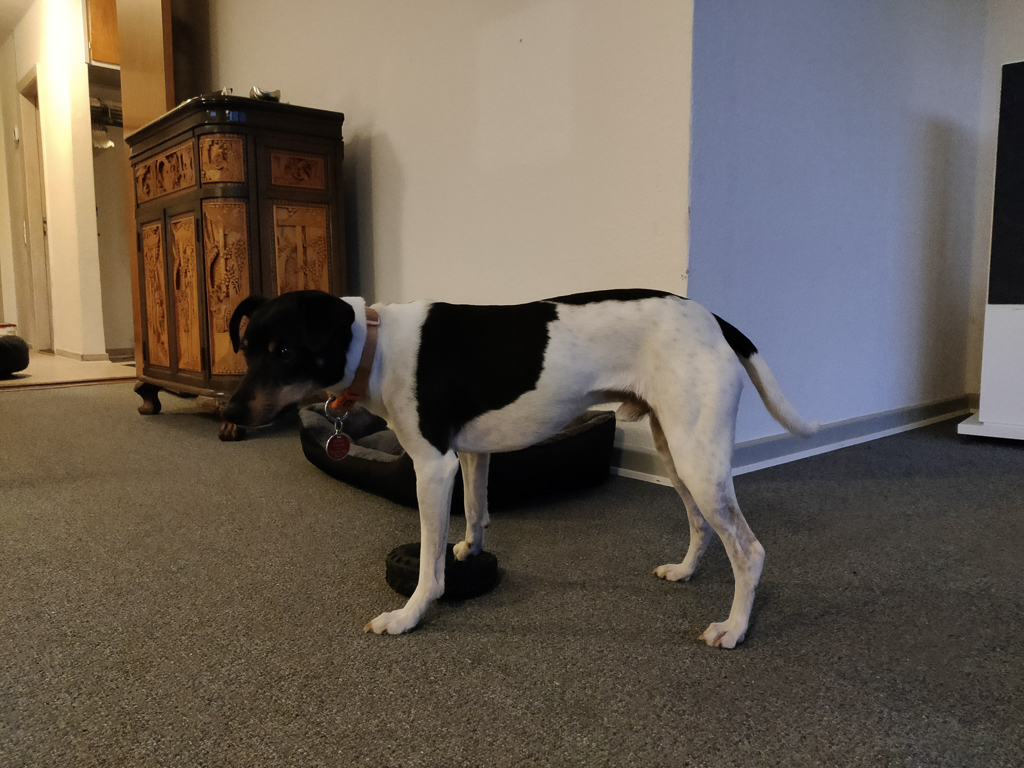Dog: (210, 268, 838, 651)
